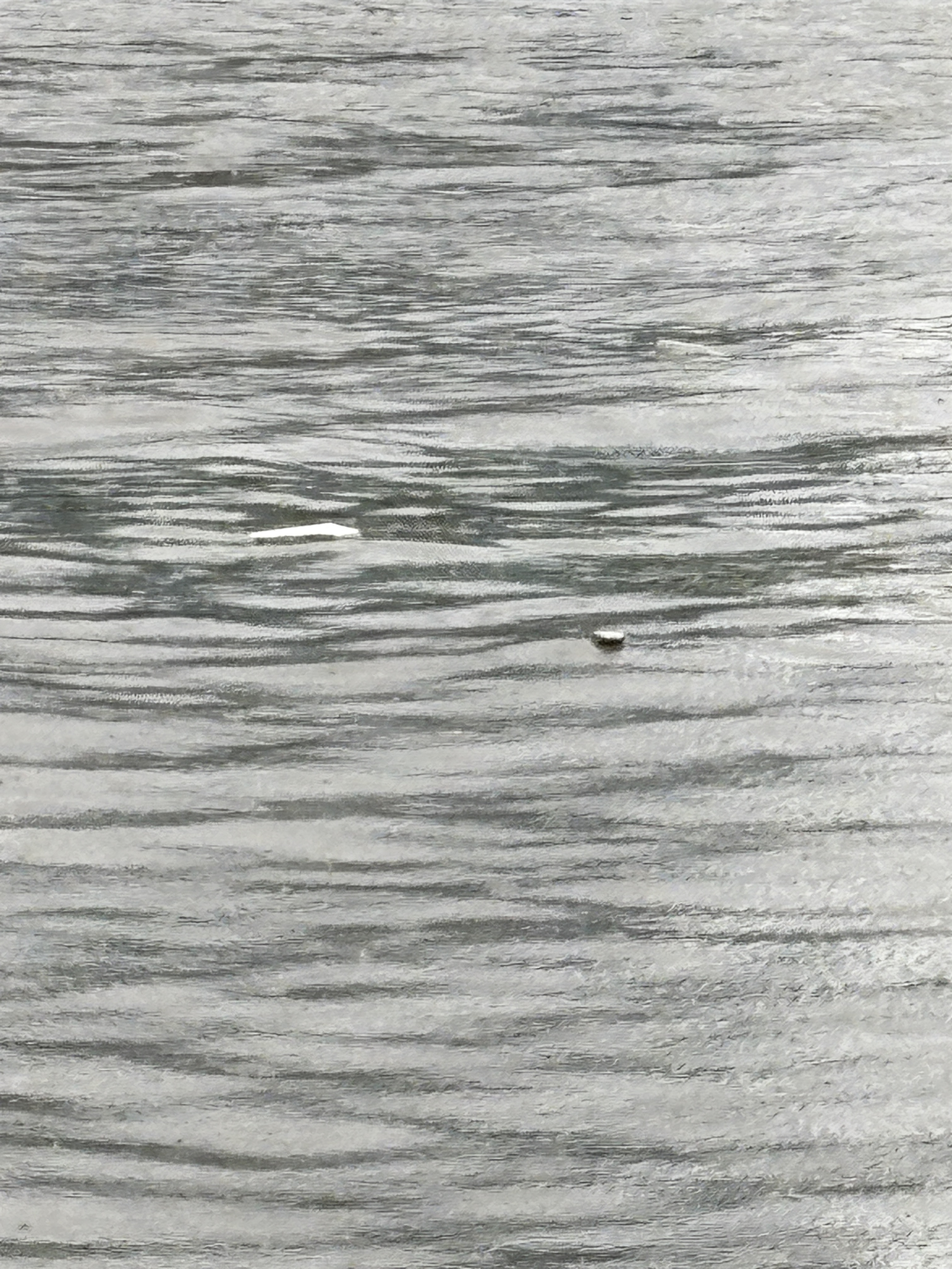Plastic wastes: (384, 792, 412, 946), (473, 428, 487, 478)
